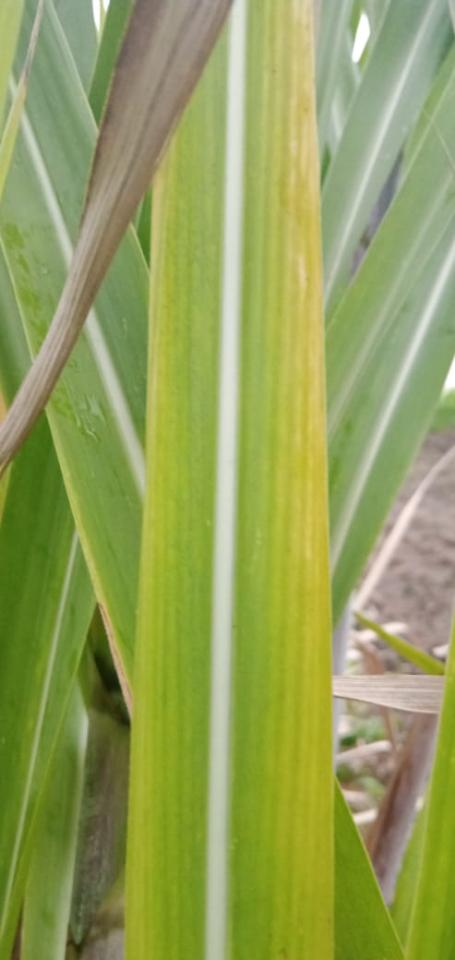Yellow: (266, 0, 334, 959), (127, 136, 183, 959)
